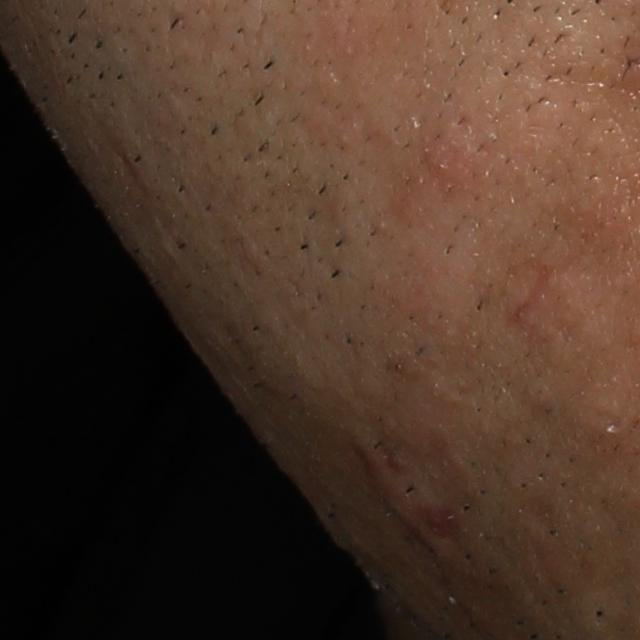hypertrophic_scar: (358, 433, 471, 523)
papule: (418, 122, 491, 190)
